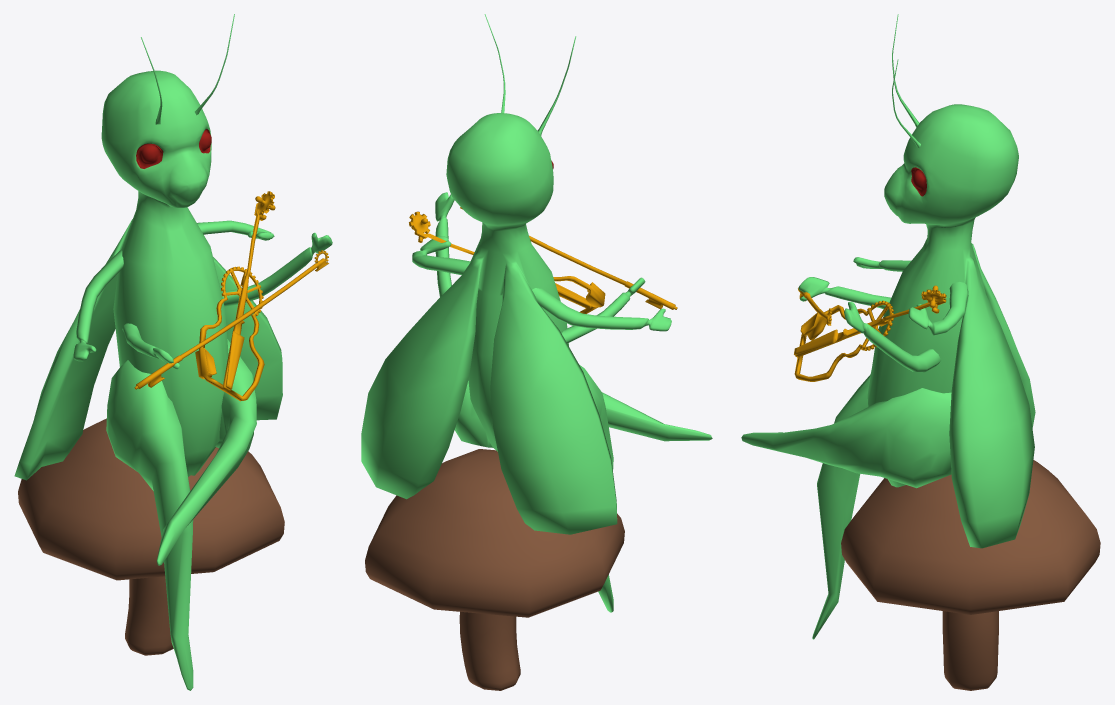
The model's file is kirigirisu2.fbx.
3 views of the same model, side by side, from view 1: azimuth 30°, elevation 25°; view 2: azimuth 150°, elevation 25°; view 3: azimuth 270°, elevation 25° (orthographic). The views are drawn at different scales.
Parts seen in each view (by area): view 1: Circle.001, Circle.000; view 2: Circle.001, Circle.000; view 3: Circle.001, Circle.000.
Part boxes in pixels (x1,y1,x2,y2): Circle.001: (14,14,332,690); Circle.000: (18,418,284,655); Circle.001: (361,14,712,612); Circle.000: (365,449,624,690); Circle.001: (741,14,1035,639); Circle.000: (841,460,1100,690).
Size of the model in its own units: 250 by 584 by 294.
